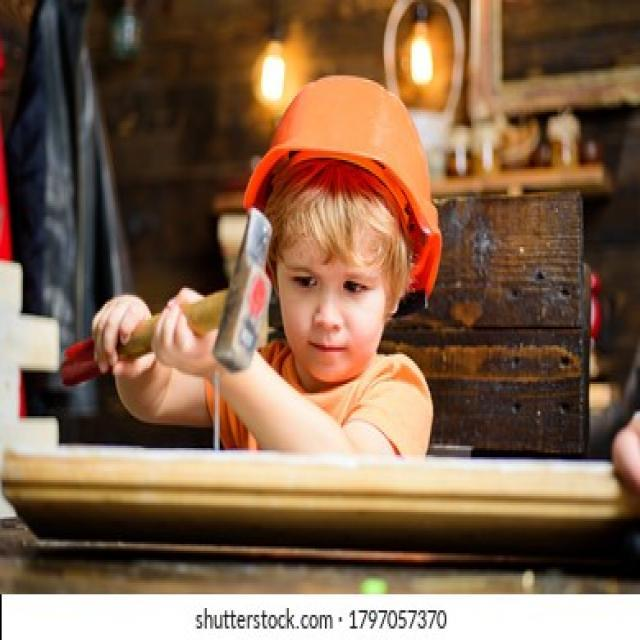hammer: (56, 200, 286, 392)
